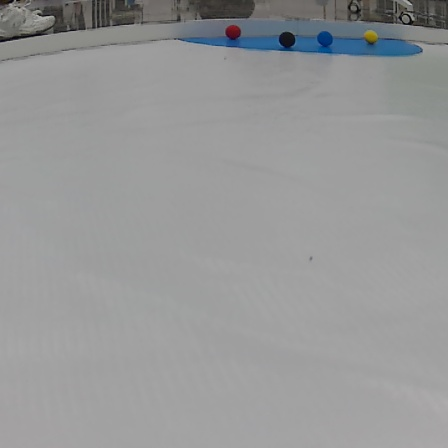black: (277, 31, 299, 48)
blue: (316, 30, 334, 46)
blue_base: (169, 32, 423, 58)
red: (224, 22, 242, 41)
yellow: (364, 30, 379, 46)
